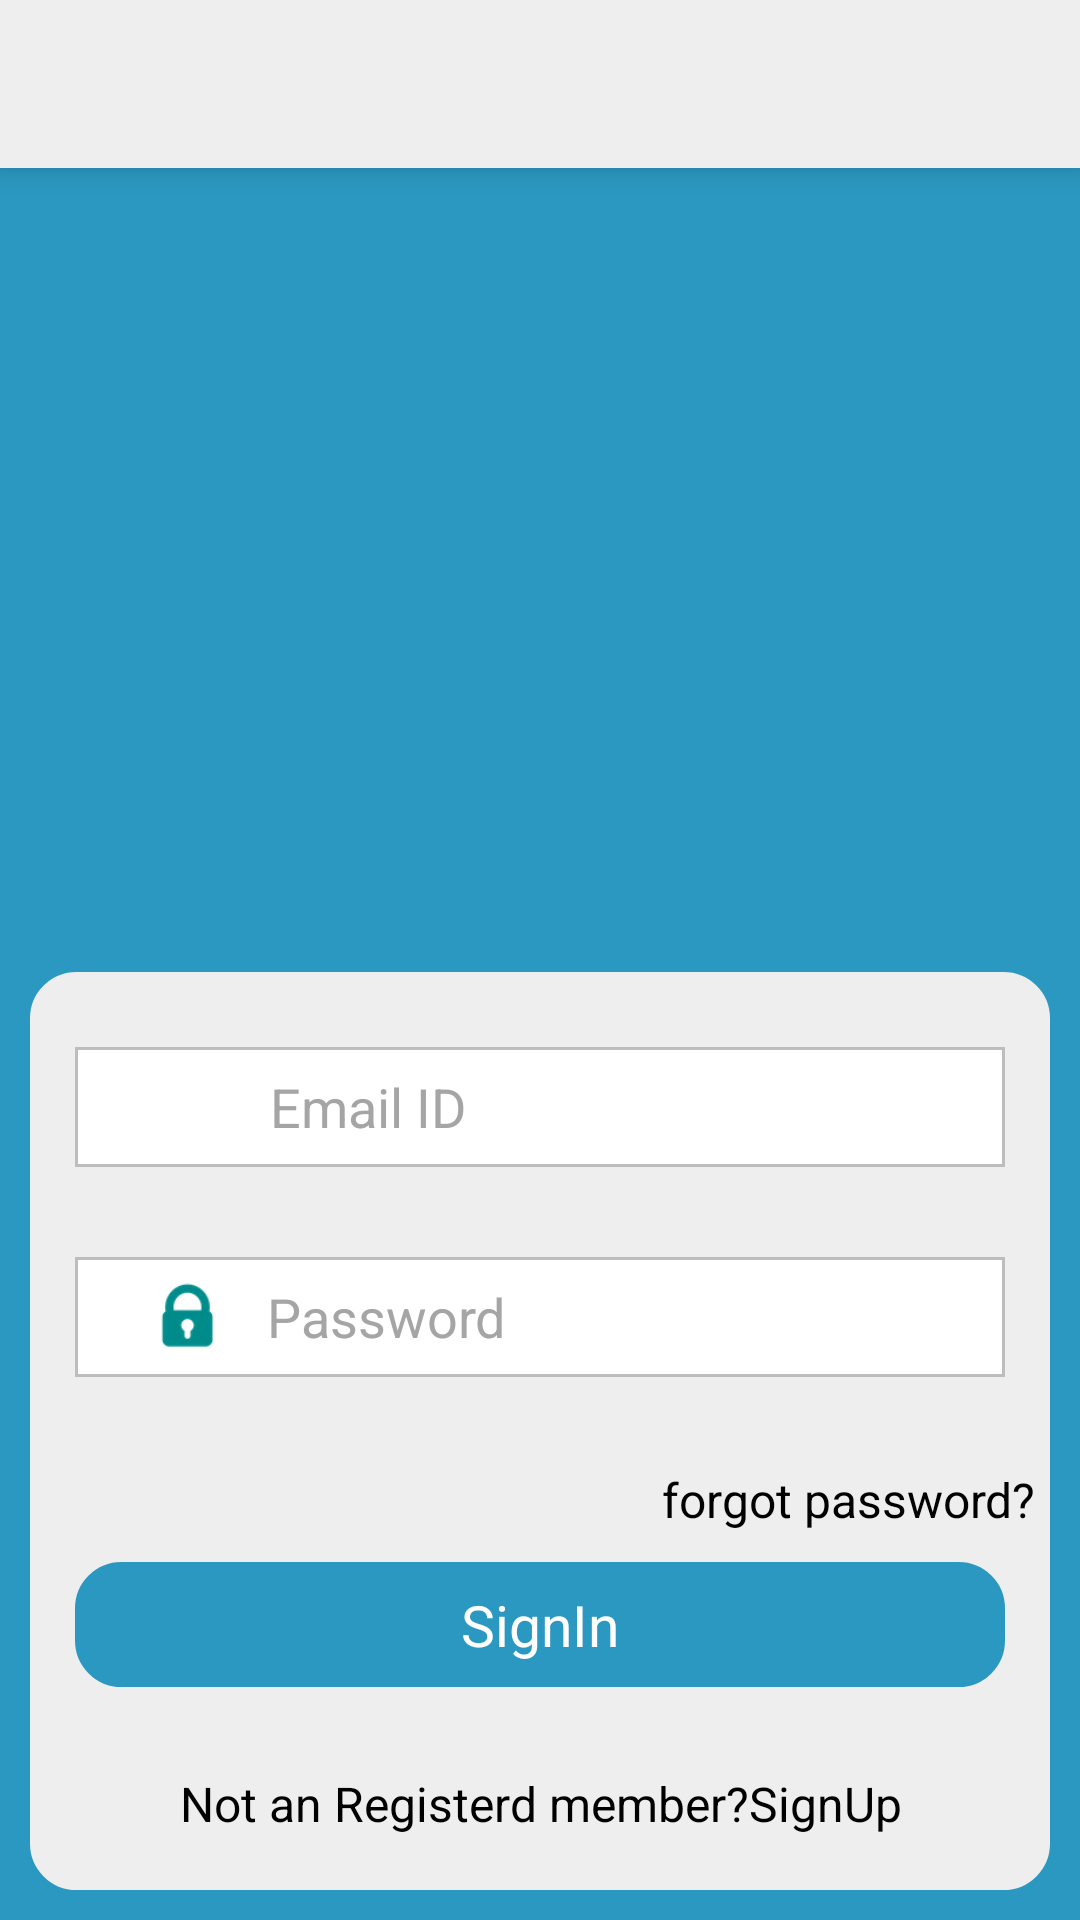

Named icons in this screenshot (1080px×1920px) and their bounding boxes, (x1, y1, x2, y2):
login pwd: (161, 1283, 214, 1347)
